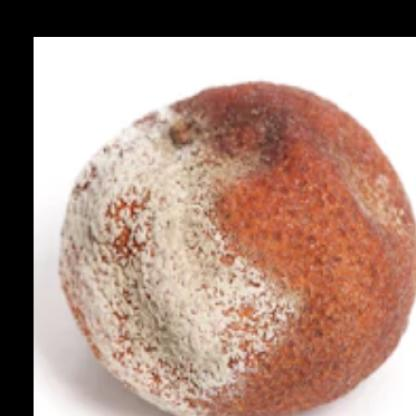rotten: (58, 79, 416, 416)
